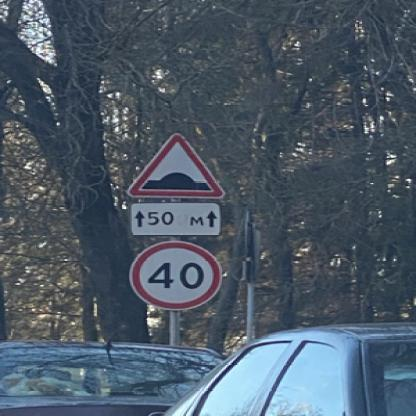speedlimit: (126, 239, 219, 308)
